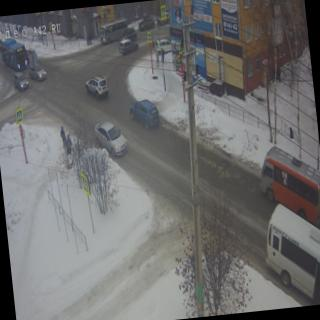large-vehicle: (263, 204, 320, 309), (256, 142, 320, 231), (0, 37, 27, 70), (98, 18, 130, 44)
small-vehicle: (93, 120, 128, 160), (127, 98, 160, 131), (84, 74, 109, 102), (118, 36, 140, 54), (154, 36, 174, 54), (28, 63, 46, 82), (118, 26, 136, 42), (138, 14, 154, 32), (13, 73, 29, 91), (156, 12, 171, 26)
